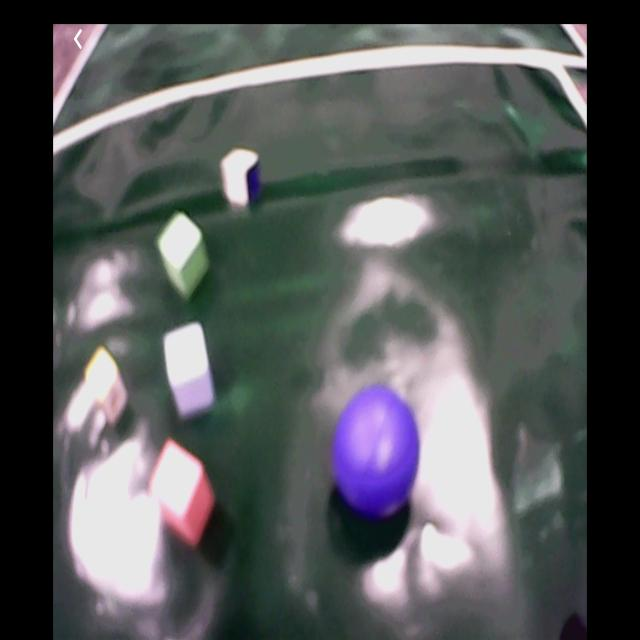ball: (333, 389, 421, 516)
